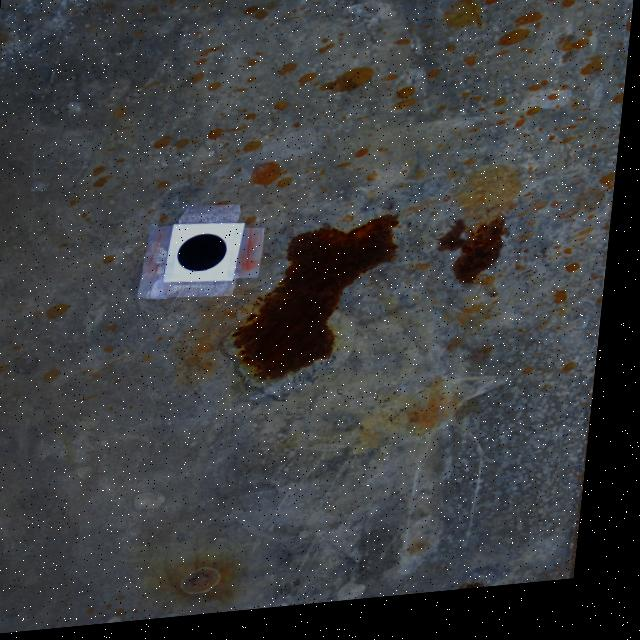corrosion: (231, 221, 409, 390), (438, 224, 518, 297), (470, 589, 512, 600)
